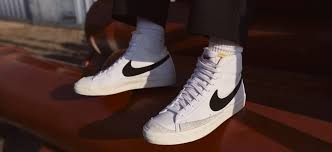nike: (206, 72, 249, 119), (115, 49, 177, 74)
